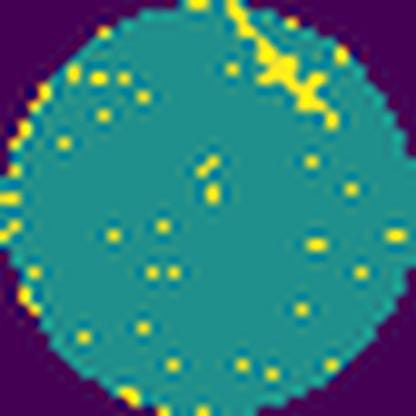Scratch: (222, 0, 341, 134)
